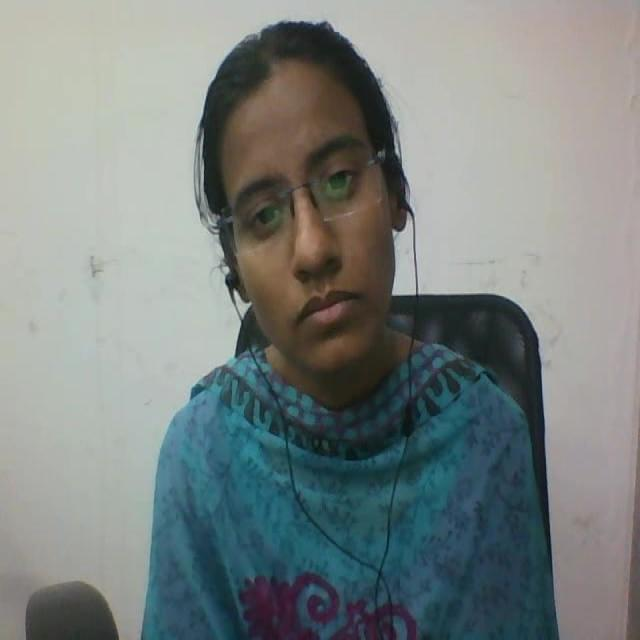Engaged: (164, 4, 444, 396)
